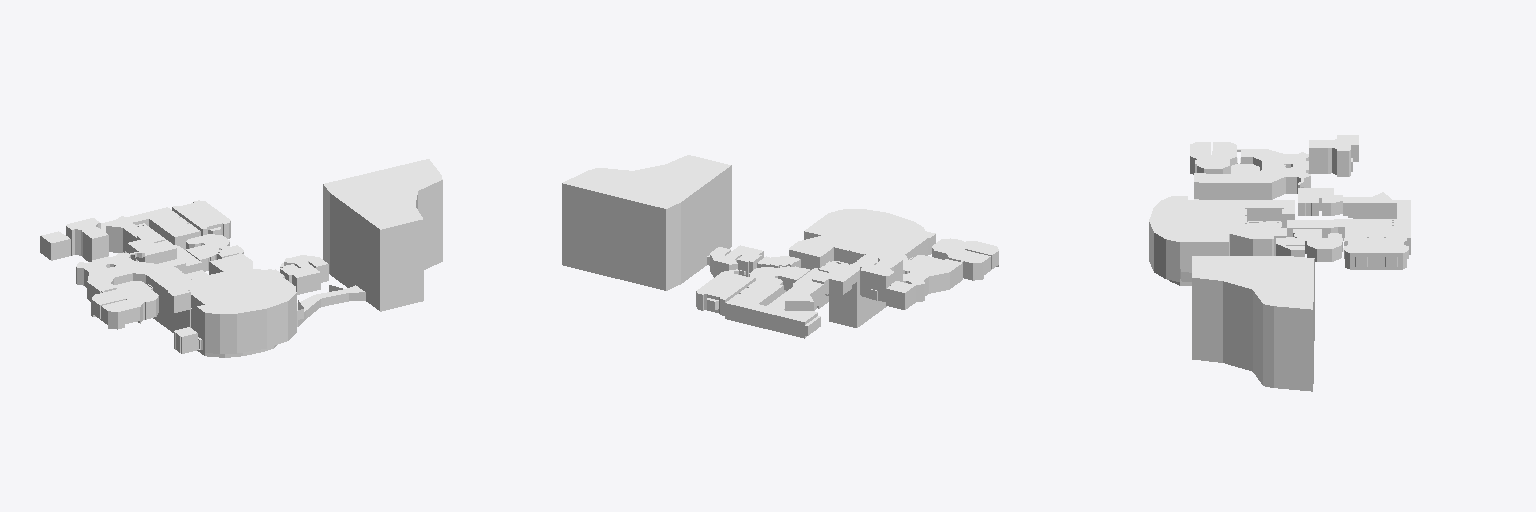
File: MAP01_full_elevator_raised.obj
3 renders of one model, left to right at view 1: azimuth 30°, elevation 25°; view 2: azimuth 150°, elevation 25°; view 3: azimuth 270°, elevation 25°, orthographic.
Parts seen in each view (by area): view 1: MAP01; view 2: MAP01; view 3: MAP01.
Boxes of the visible parts, <box> form: MAP01: <box>40,159,442,357</box>; MAP01: <box>562,155,998,338</box>; MAP01: <box>1149,135,1410,391</box>.
Size of the model in its own units: 5888 by 1280 by 3520.